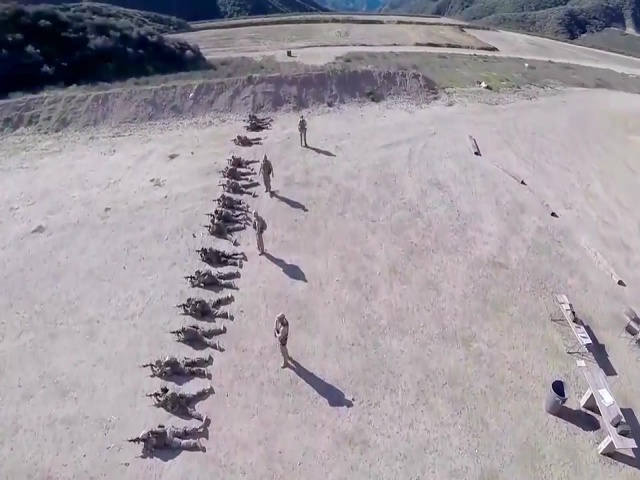person: (143, 384, 212, 421), (129, 422, 209, 453), (144, 352, 214, 382), (169, 323, 227, 350), (178, 293, 234, 320), (184, 265, 240, 290), (273, 311, 291, 370), (194, 245, 244, 266), (250, 210, 267, 255), (218, 179, 259, 196), (259, 153, 273, 194), (225, 153, 257, 170), (230, 132, 262, 148), (296, 112, 308, 148)
